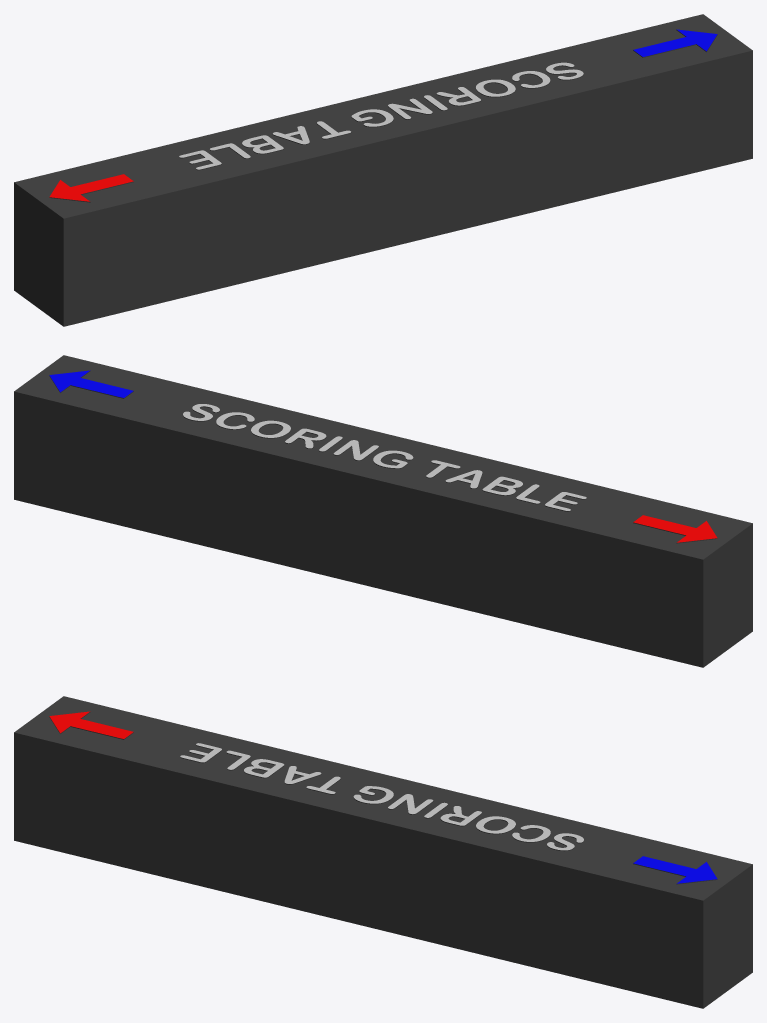
Rendered from table.obj.
3 views of the same model, one above another, from view 1: azimuth 30°, elevation 25°; view 2: azimuth 150°, elevation 25°; view 3: azimuth 330°, elevation 25° (orthographic).
Visible parts, largest first — view 1: Table; view 2: Table; view 3: Table.
Part boxes in pixels (left/top/right/bottom): Table: left=14, top=14, right=752, bottom=326; Table: left=14, top=355, right=752, bottom=667; Table: left=14, top=696, right=752, bottom=1008.
Bounding box in the file's own units: 6.1 × 0.9208 × 0.762.
